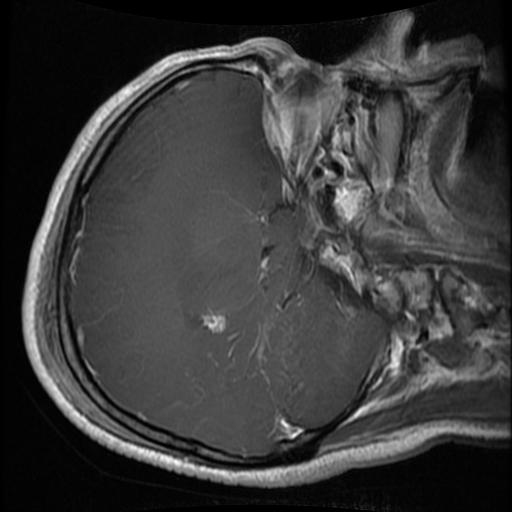glioma: (199, 312, 226, 333)
